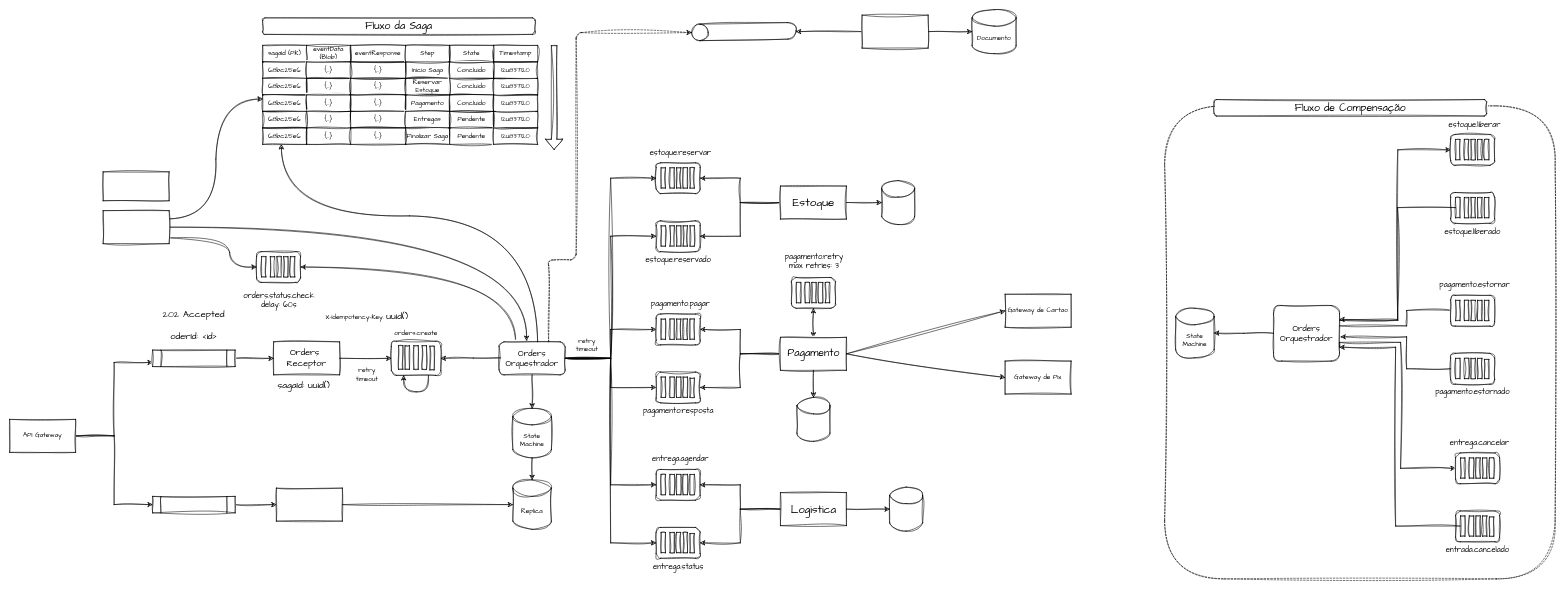
This 1565x589 diagram has some shape labels left out. Each missing label, with the centre of its shape:
"[GET] /orders/{id}" belongs at (193,504).
"[POST] /orders" belongs at (193,358).
"Mecanismo de Rastreio e Resumo da Saga" belongs at (136,186).
"Orders Consulta" belongs at (309,504).
"Pedidos" belongs at (895,31).
"topico: orders" belongs at (743,31).
"Watchdog" belongs at (136,227).
